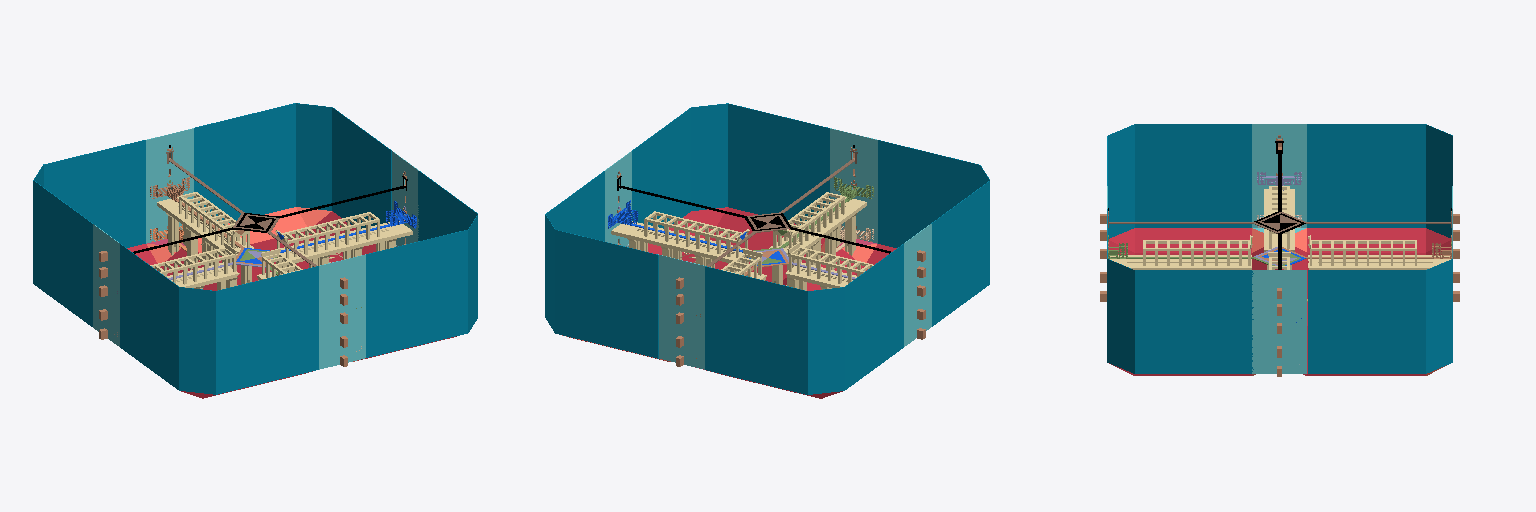
The model's file is blocks.obj.
The picture shows the model from 3 angles: view 1: azimuth 30°, elevation 25°; view 2: azimuth 150°, elevation 25°; view 3: azimuth 270°, elevation 25°; orthographic projection.
Parts seen in each view (by area): view 1: blocks.obj.1; view 2: blocks.obj.1; view 3: blocks.obj.1.
Part boxes in pixels (left/top/right/bottom): blocks.obj.1: left=33, top=103, right=477, bottom=398; blocks.obj.1: left=545, top=103, right=989, bottom=398; blocks.obj.1: left=1100, top=124, right=1459, bottom=376.
Size of the model in its own units: 17344 by 6240 by 17312.